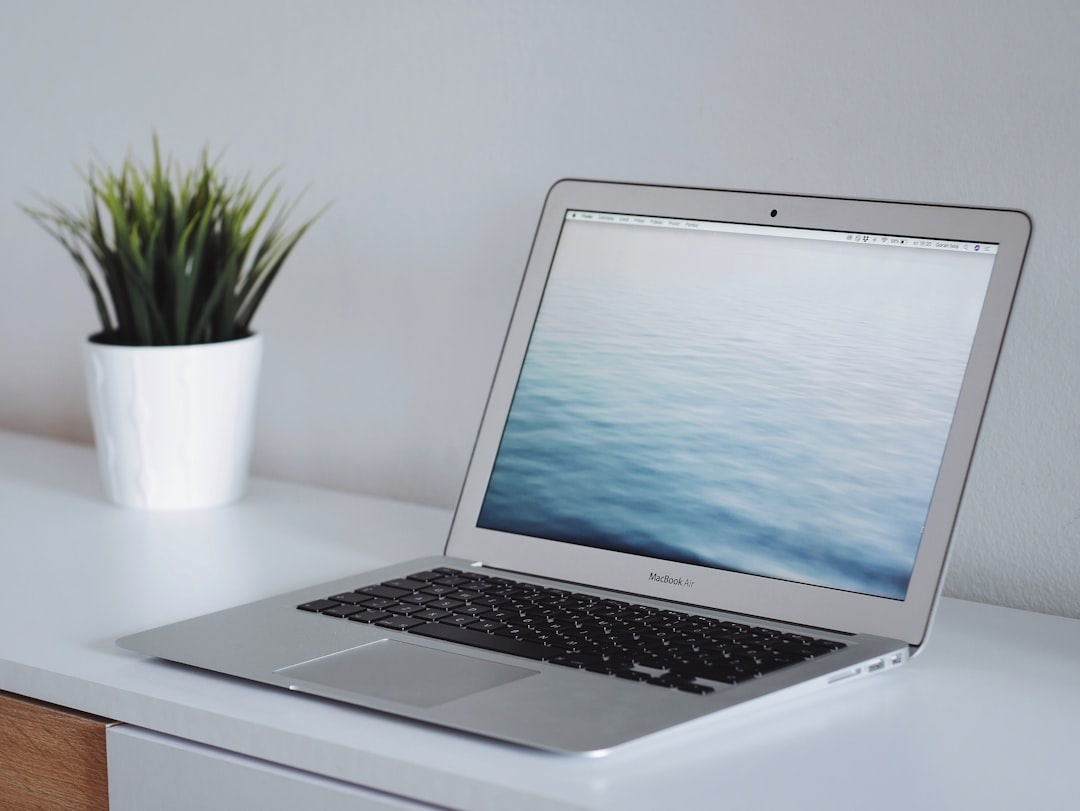laptop: (108, 103, 1041, 776)
